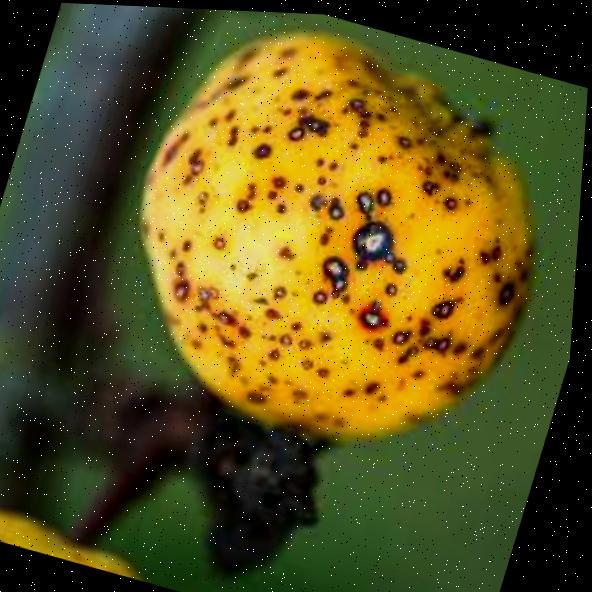SCAB: (48, 4, 592, 486)
